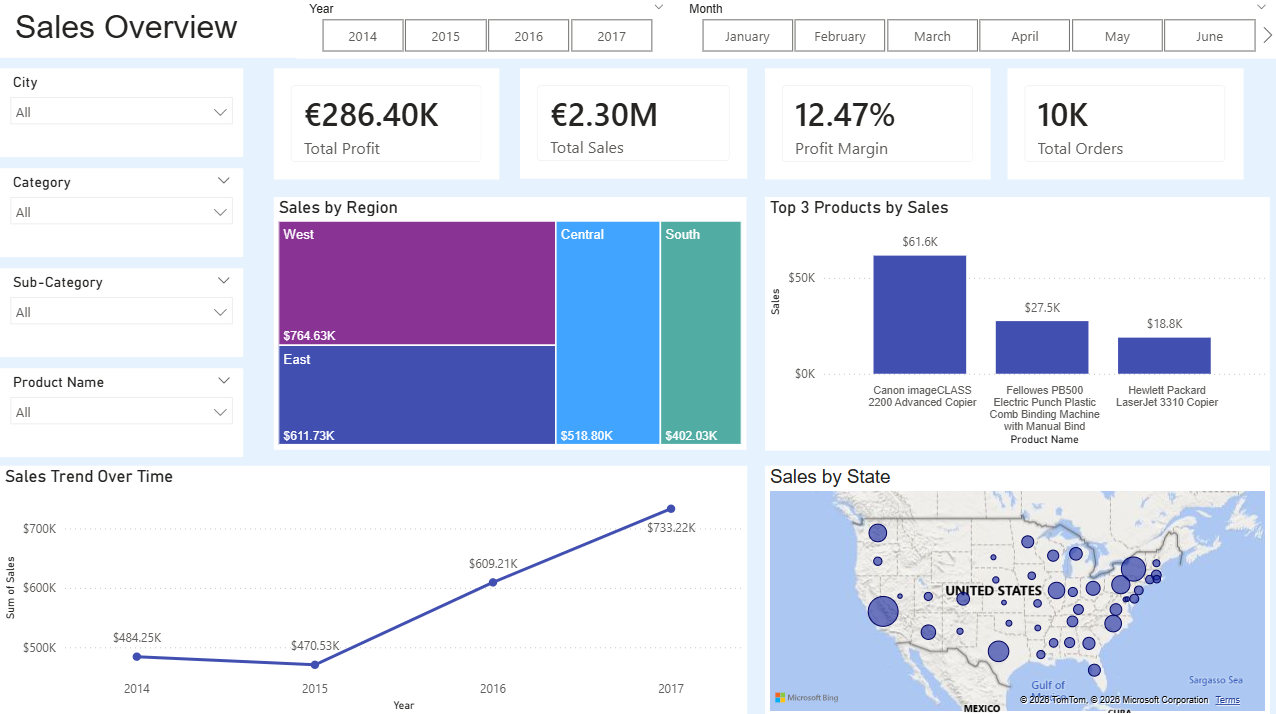

This screenshot's page, from the dashboard's own definition file:
{"tool":"powerbi","page":{"name":"Sales Overview","canvas":[1280,720],"ordinal":0},"visuals":[{"type":"cardVisual","fields":{"Data":["Orders.Total Profit"]},"box":[273.7,71.4,225.7,111.4],"z":0},{"type":"cardVisual","fields":{"Data":["Orders.Total Sales"]},"box":[519.4,71.4,227.1,110],"z":1000},{"type":"cardVisual","fields":{"Data":["Orders.Profit Margin"]},"box":[765.1,71.4,225.7,111.4],"z":2000},{"type":"cardVisual","fields":{"Data":["Orders.Total Orders"]},"box":[1008,71.4,235.7,111.4],"z":3000},{"type":"textbox","box":[0,0,1280,61],"z":4000},{"type":"slicer","fields":{"Values":["Customers.City"]},"box":[0,71.4,242.9,88.6],"z":5000},{"type":"slicer","fields":{"Values":["Products.Category"]},"box":[0,171.4,242.9,88.6],"z":6000},{"type":"slicer","fields":{"Values":["Products.Sub-Category"]},"box":[0,271.4,242.9,88.6],"z":7000},{"type":"slicer","fields":{"Values":["Products.Product Name"]},"box":[0,371,243,89],"z":8000},{"type":"slicer","fields":{"Values":["Orders.Order Date.Variation.Date Hierarchy.Year"]},"box":[295.7,0,380,61.4],"z":9000},{"type":"slicer","fields":{"Values":["Orders.Order Date.Variation.Date Hierarchy.Month"]},"box":[675.7,0,602.9,61.4],"z":10000},{"type":"treemap","title":"Sales by Region","fields":{"Group":["Customers.Region"],"Values":["Sum(Orders.Sales)"]},"box":[274.3,200,472.9,252.9],"z":11000},{"type":"clusteredColumnChart","title":"Top 3 Products by Sales","fields":{"Category":["Products.Product Name"],"Y":["Sum(Orders.Sales)"]},"box":[765,200,505,253.8],"z":12000},{"type":"lineChart","title":"Sales Trend Over Time ","fields":{"Category":["Orders.Order Date.Variation.Date Hierarchy.Year","Orders.Order Date.Variation.Date Hierarchy.Month","Orders.Order Date.Variation.Date Hierarchy.Day"],"Y":["Sum(Orders.Sales)"]},"box":[0,468.8,747.5,251.2],"z":13000},{"type":"map","title":"Sales by State","fields":{"Category":["Customers.State"],"Size":["Sum(Orders.Sales)"]},"box":[765,468.8,505,251.2],"z":14000}]}

Visuals, with their boxes in screenshot pixels (x1, y1, x2, y2), scaled from the page's 1280x720 canvas onto the 1276x714 screenshot:
cardVisual - Orders.Total Profit: bbox=[273, 71, 498, 181]
cardVisual - Orders.Total Sales: bbox=[518, 71, 744, 180]
cardVisual - Orders.Profit Margin: bbox=[763, 71, 988, 181]
cardVisual - Orders.Total Orders: bbox=[1005, 71, 1240, 181]
textbox: bbox=[0, 0, 1275, 60]
slicer - Customers.City: bbox=[0, 71, 242, 159]
slicer - Products.Category: bbox=[0, 170, 242, 258]
slicer - Products.Sub-Category: bbox=[0, 269, 242, 357]
slicer - Products.Product Name: bbox=[0, 368, 242, 456]
slicer - Orders.Order Date.Variation.Date Hierarchy.Year: bbox=[295, 0, 674, 61]
slicer - Orders.Order Date.Variation.Date Hierarchy.Month: bbox=[674, 0, 1275, 61]
"Sales by Region" treemap: bbox=[273, 198, 745, 449]
"Top 3 Products by Sales" clusteredColumnChart: bbox=[763, 198, 1266, 450]
"Sales Trend Over Time " lineChart: bbox=[0, 465, 745, 713]
"Sales by State" map: bbox=[763, 465, 1266, 713]
